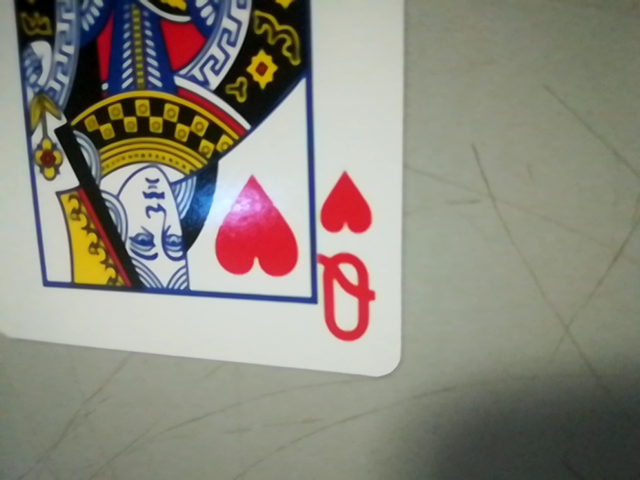hx q: (311, 166, 391, 353)
